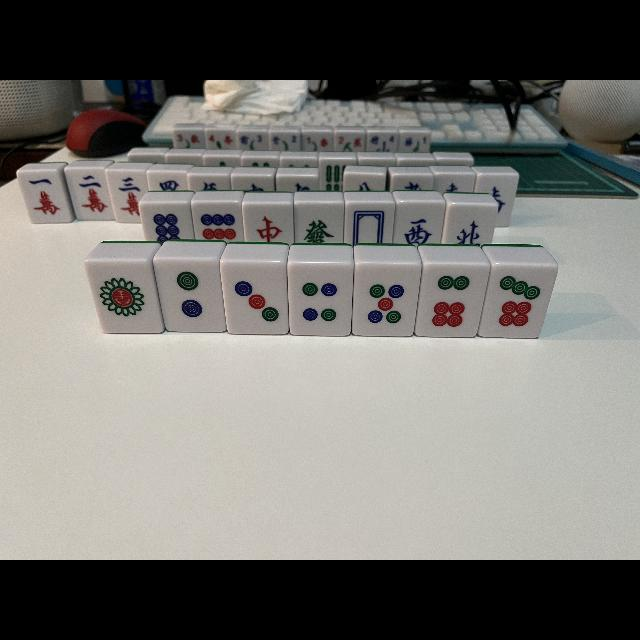c1: (17, 171, 71, 223)
c2: (66, 169, 114, 221)
c3: (106, 170, 150, 222)
d1: (86, 260, 160, 334)
d2: (154, 259, 226, 333)
d3: (221, 262, 289, 336)
d4: (288, 264, 352, 336)
d5: (354, 264, 416, 336)
d6: (419, 264, 481, 338)
d7: (484, 264, 548, 336)
